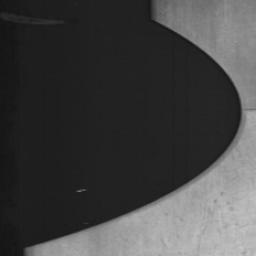Crescent gap: (34, 20, 242, 246)
